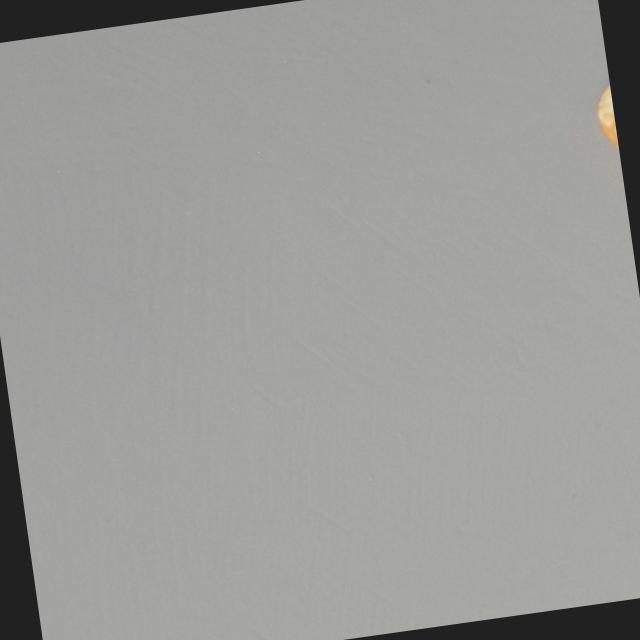dañado: (591, 76, 625, 192)
